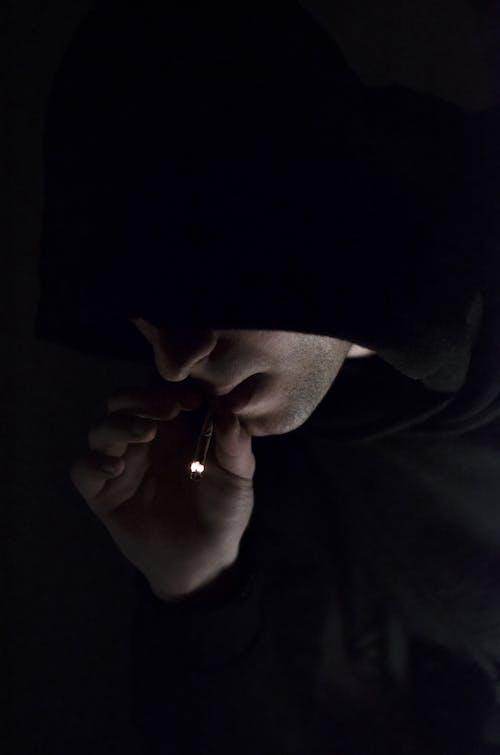cigarette: (188, 418, 216, 483)
